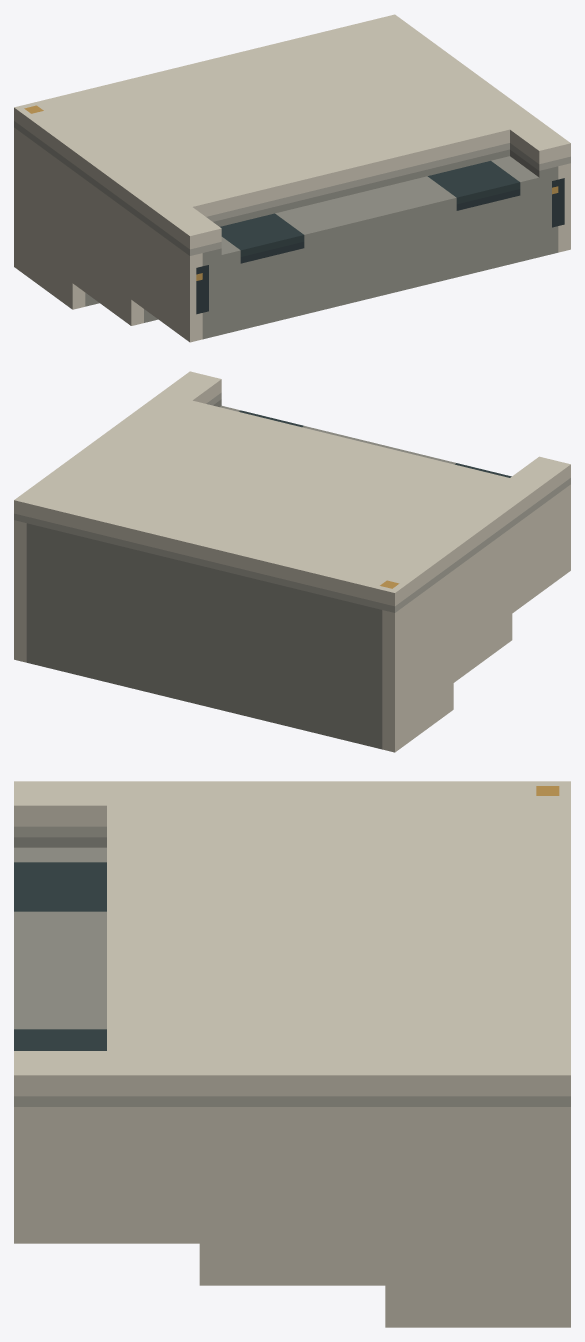
3 views of the same model, one above another, from view 1: azimuth 30°, elevation 25°; view 2: azimuth 150°, elevation 25°; view 3: azimuth 270°, elevation 25° (orthographic). The views are drawn at different scales.
Parts seen in each view (by area): view 1: 真实接岸桥台基础组件; view 2: 真实接岸桥台基础组件; view 3: 真实接岸桥台基础组件.
Boxes of the visible parts, x1,y1,x2,y2 form: 真实接岸桥台基础组件: (14, 14, 570, 342); 真实接岸桥台基础组件: (14, 371, 570, 752); 真实接岸桥台基础组件: (14, 781, 570, 1327).
Bounding box in the file's own units: 6 × 2.4 × 4.8.
Materials: 6 (6 with a texture image).
